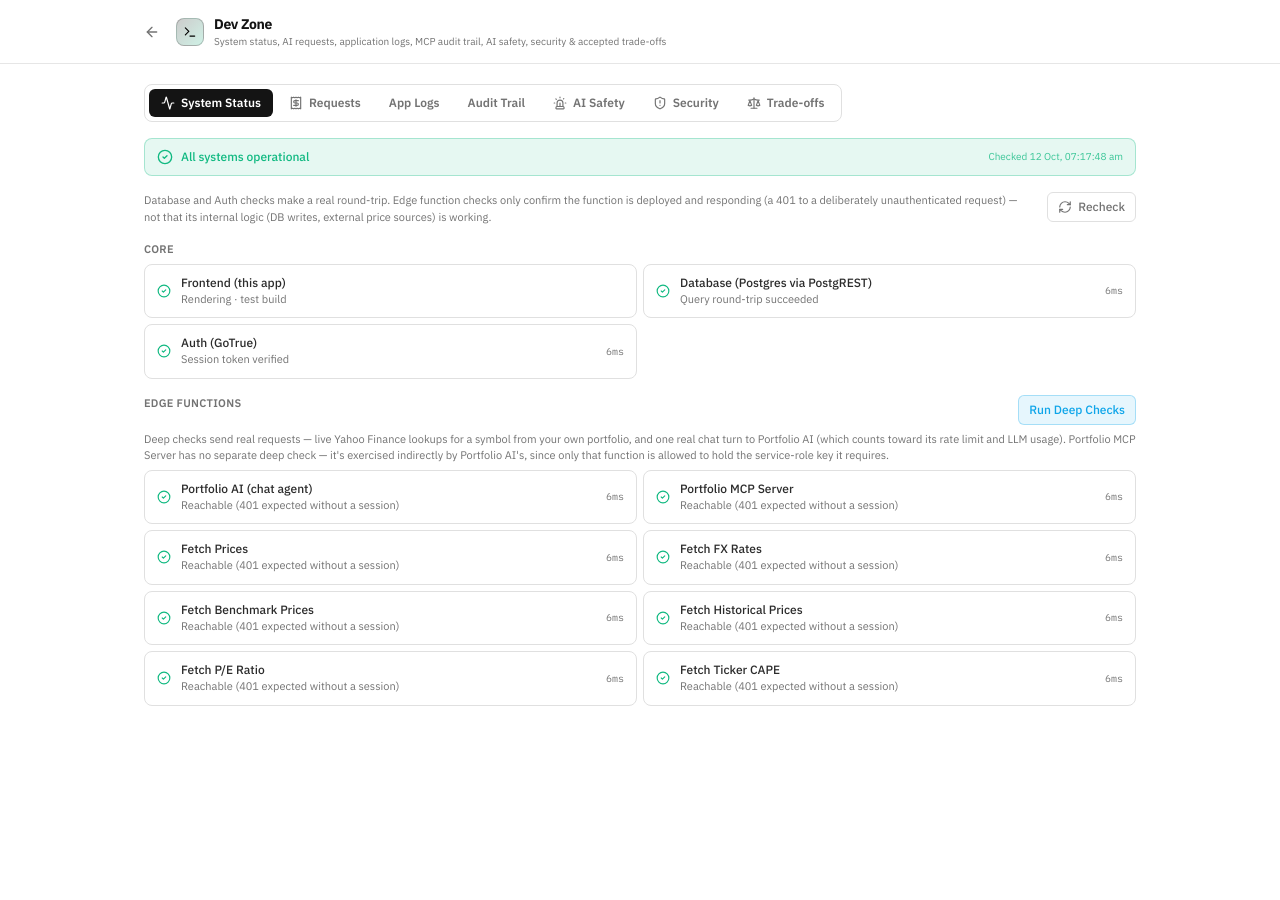
Test: DevZone › System Status tab (default view) › releases the deep-check button and marks its rows when the probe-symbol lookup rejects
Expected: the text "All systems operational" is shown, [157,149,309,165]
Click the button "Run Deep Checks": (1077, 410) [1018,394,1136,424]
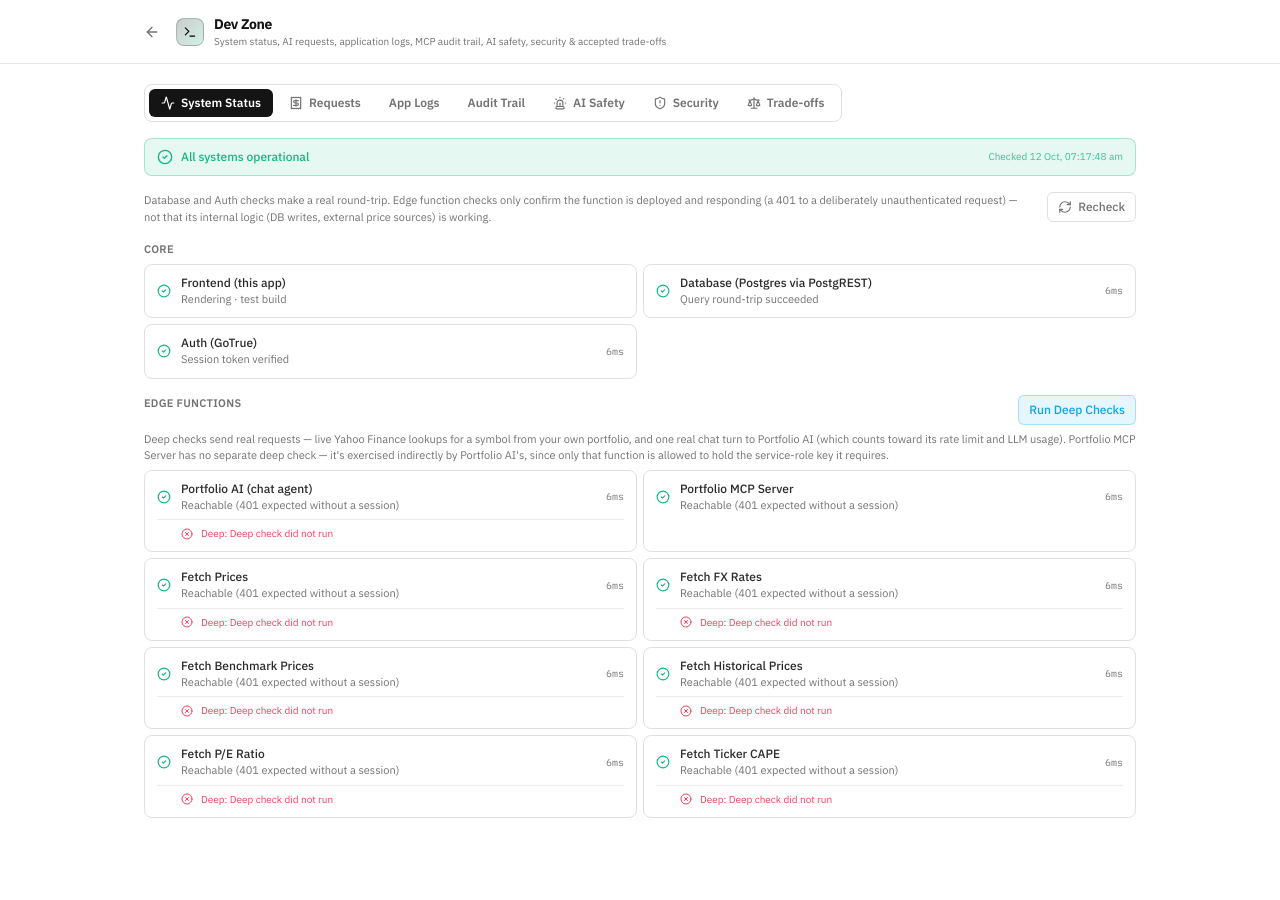
Expected: the text "Deep: Deep check did not run" below "Portfolio AI (chat agent)" is shown, [230,527,333,540]
